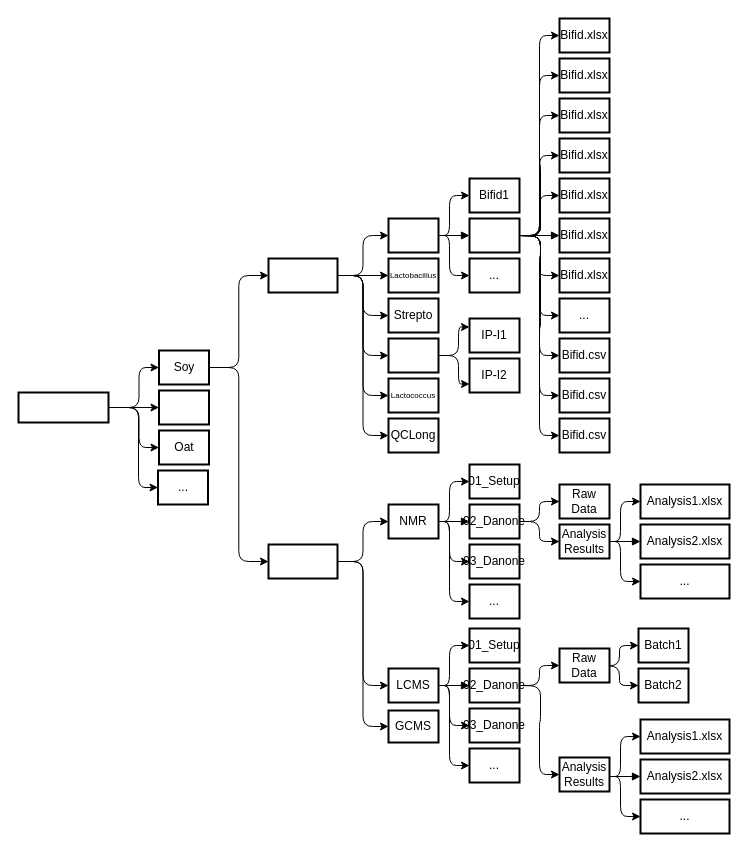
Image size: 747x851. Some labels were removed from this diagram. Each missing label, with the centre of its shape:
"Almond" belongs at pixel 184 407.
"Bifid" belongs at pixel 413 235.
"Bifid2" belongs at pixel 494 235.
"External" belongs at pixel 302 561.
"Gemetab" belongs at pixel 63 407.
"Internal" belongs at pixel 302 275.
"Mix" belongs at pixel 413 355.
